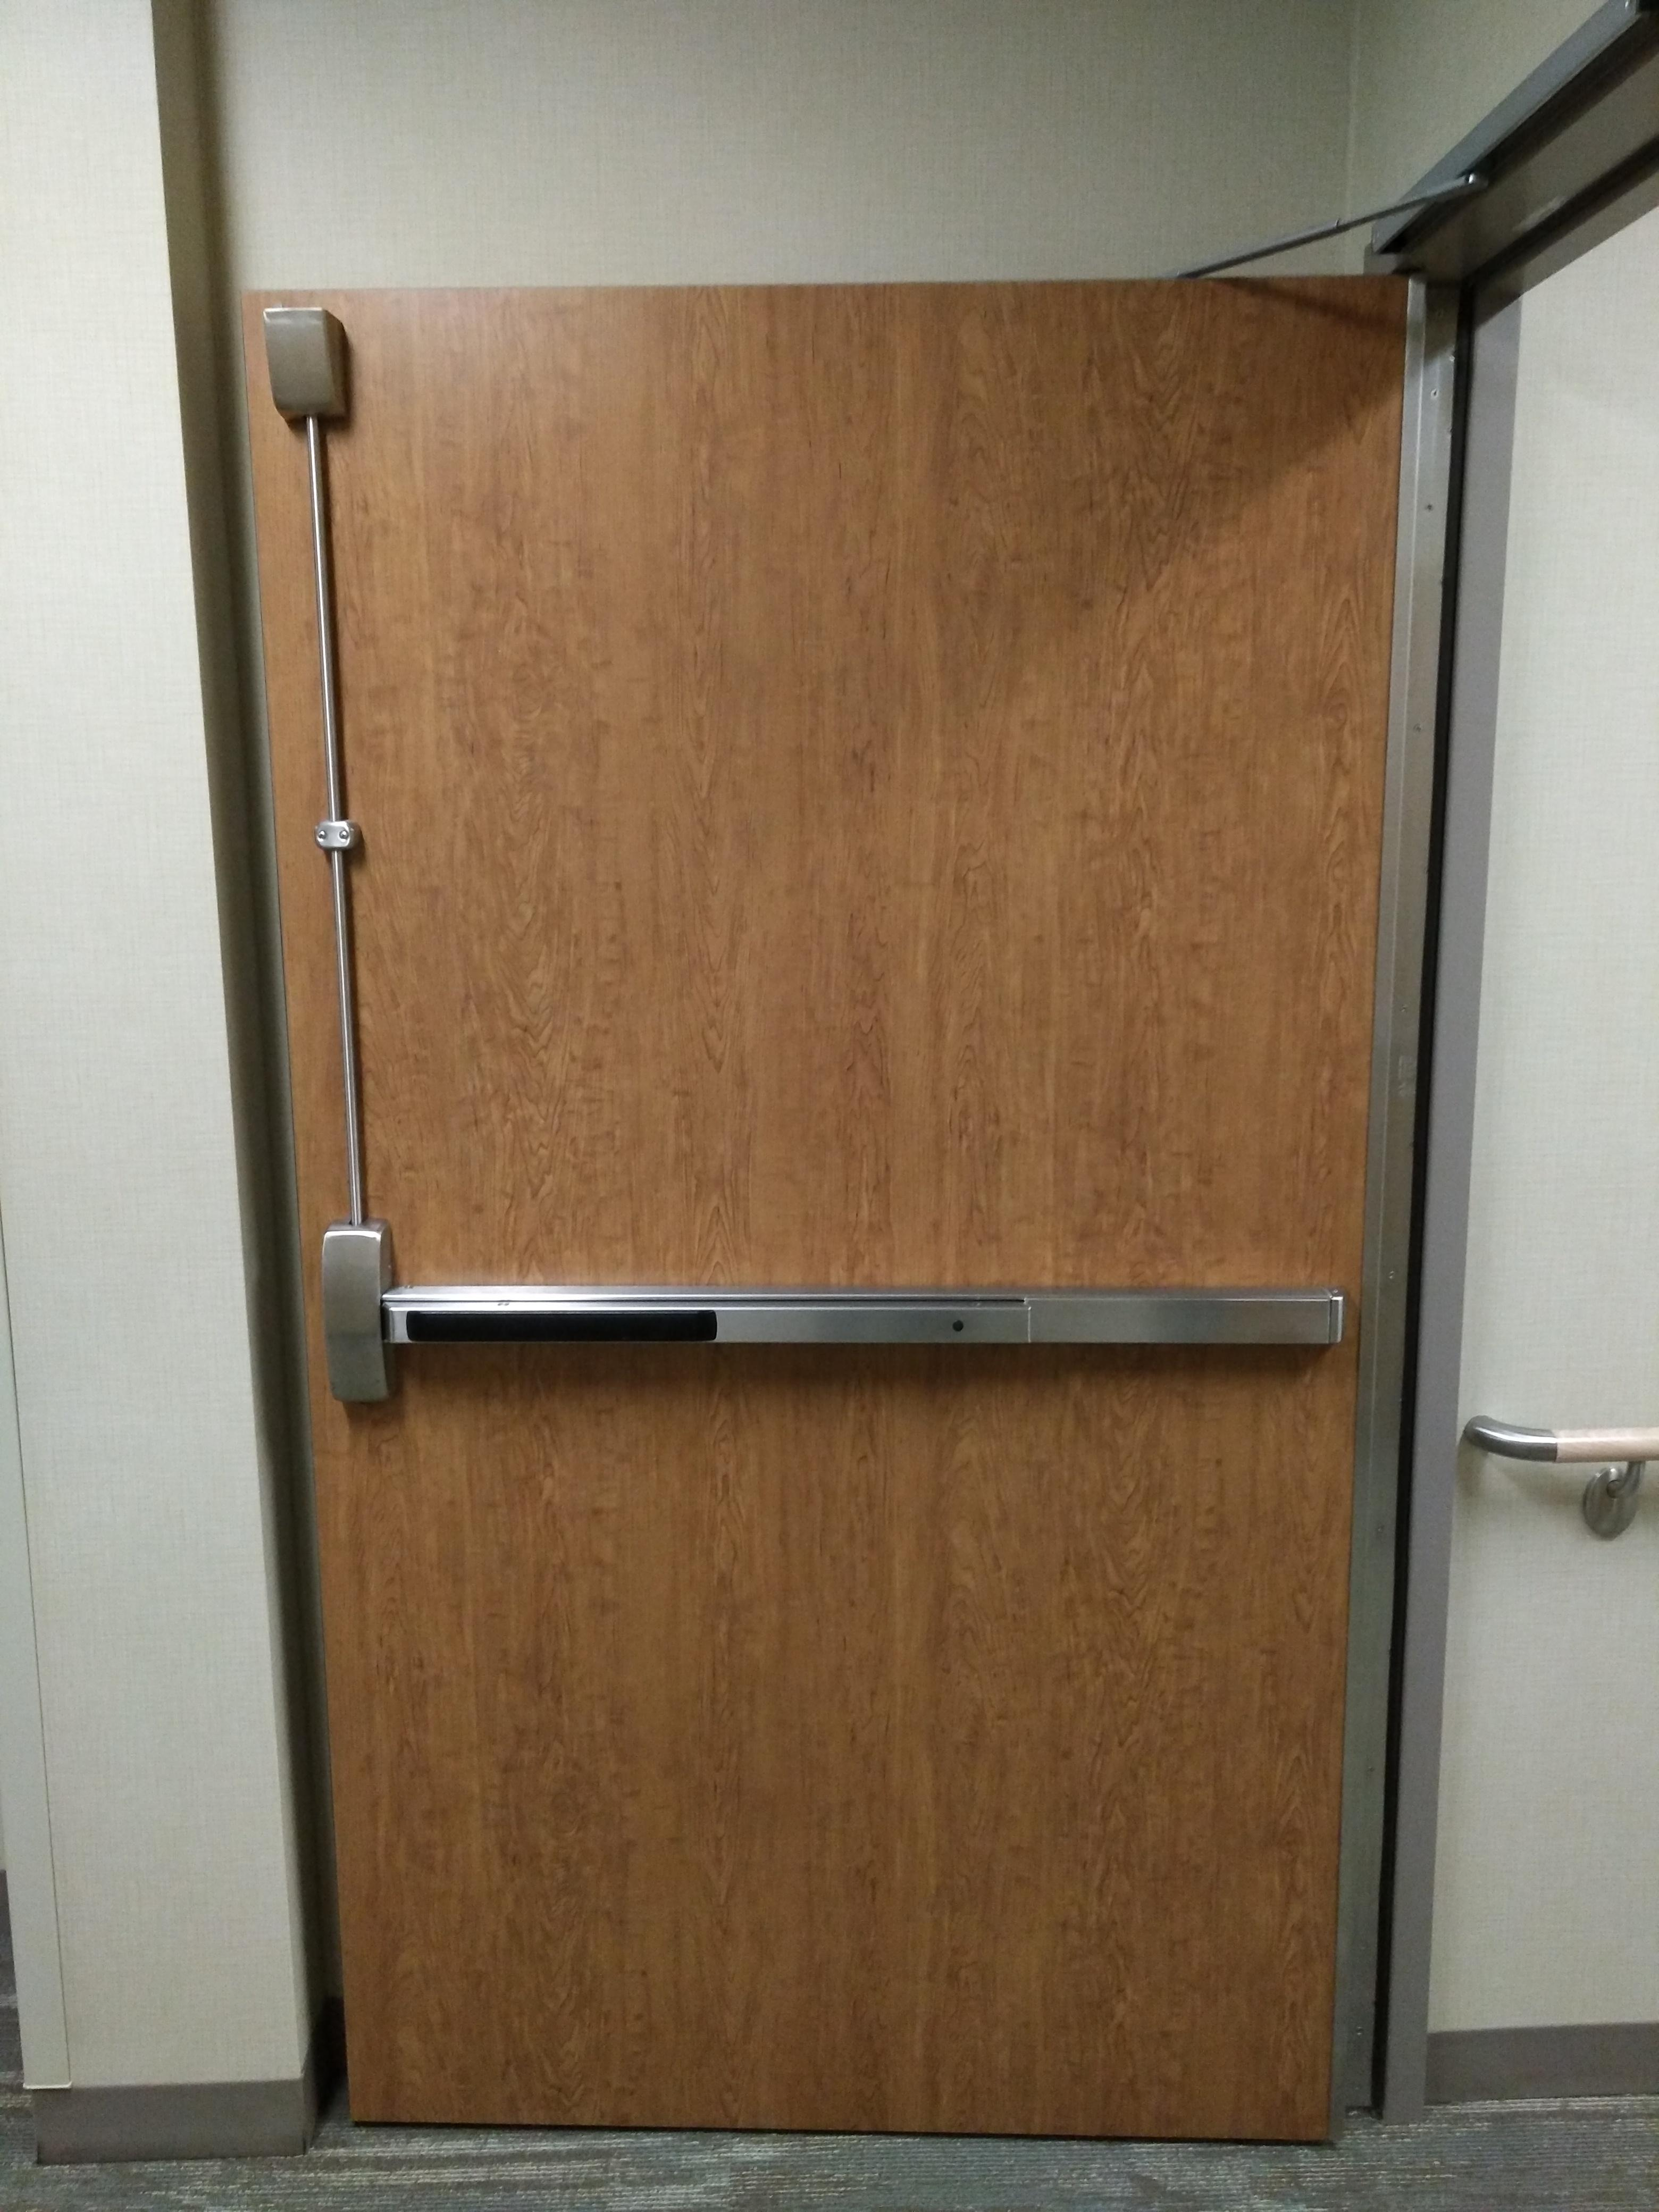door: (230, 275, 1391, 2127)
